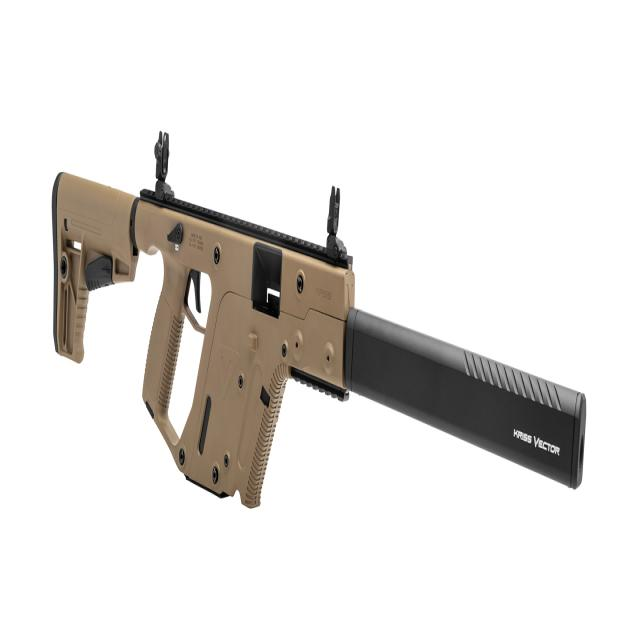SMG: (52, 131, 588, 511)
